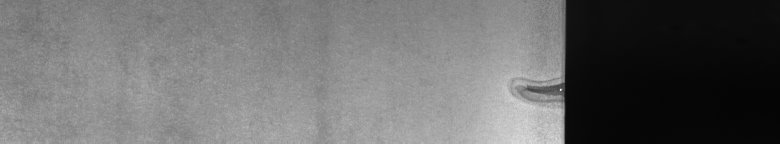hb: (507, 74, 552, 112)
